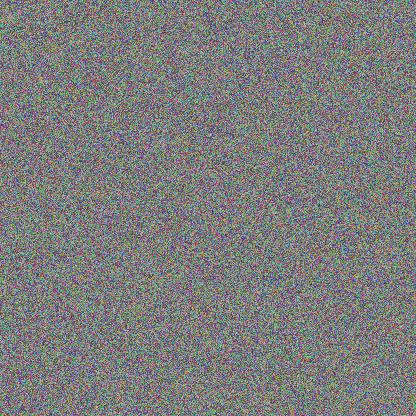empty: (146, 200, 242, 256)
occupied: (88, 106, 138, 224), (115, 173, 200, 227)
